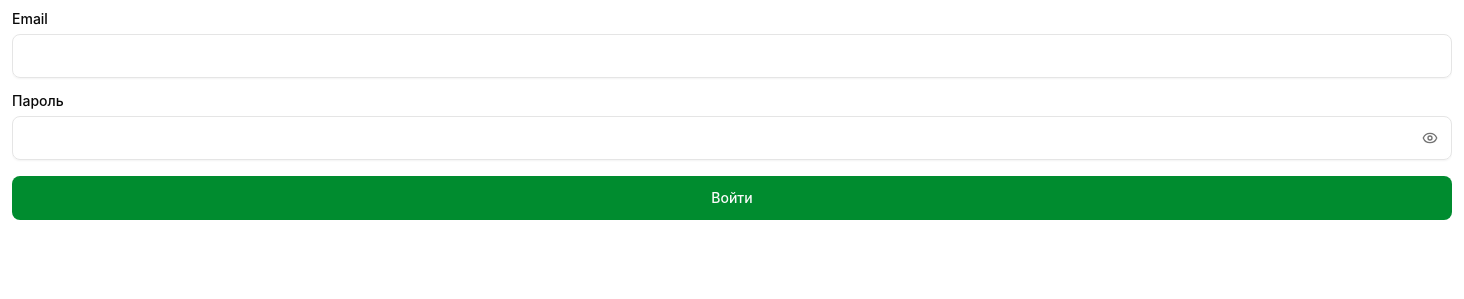
Test: LoginForm › реджект ApiRequestError(401) показывает общий алерт
Type "user@example.com" into the field labelled "Email".
click(732, 56); type("user@example.com")  # box [12,34,1452,78]
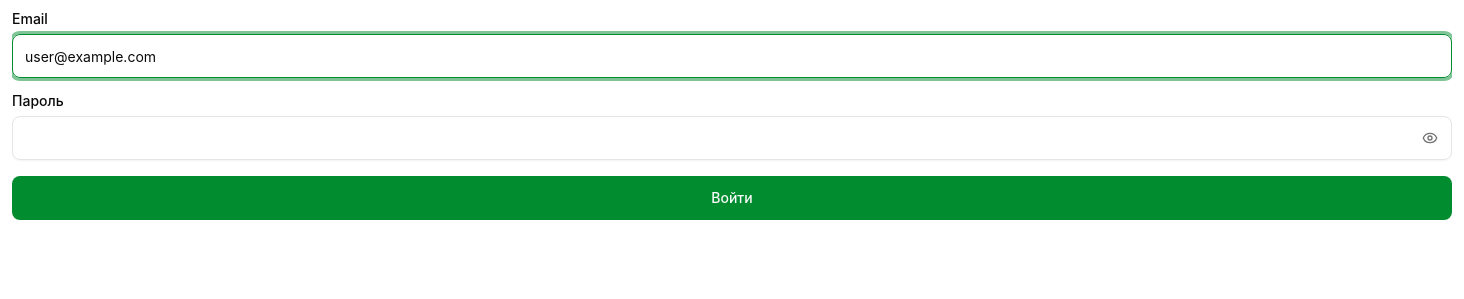
Type "wrong-pass" into the password field labelled "Пароль".
click(732, 138); type("wrong-pass")  # box [12,116,1452,160]
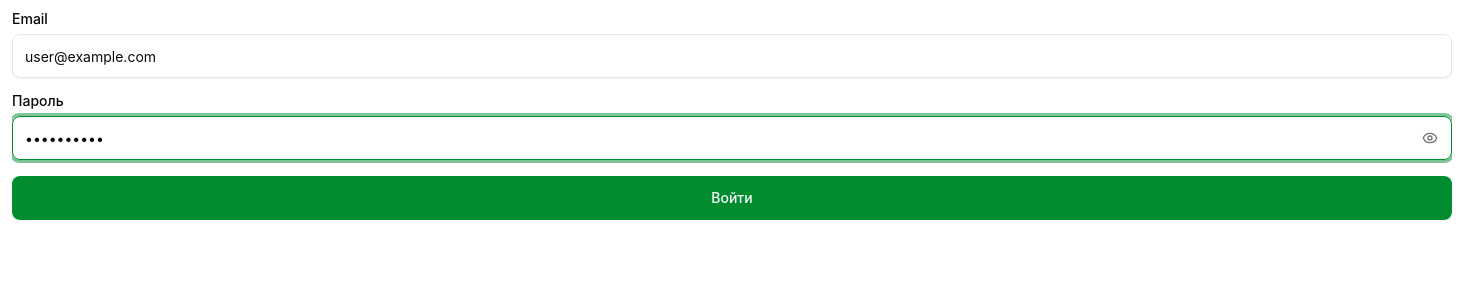
Click the button "Войти".
click(732, 198)  # box [12,176,1452,220]
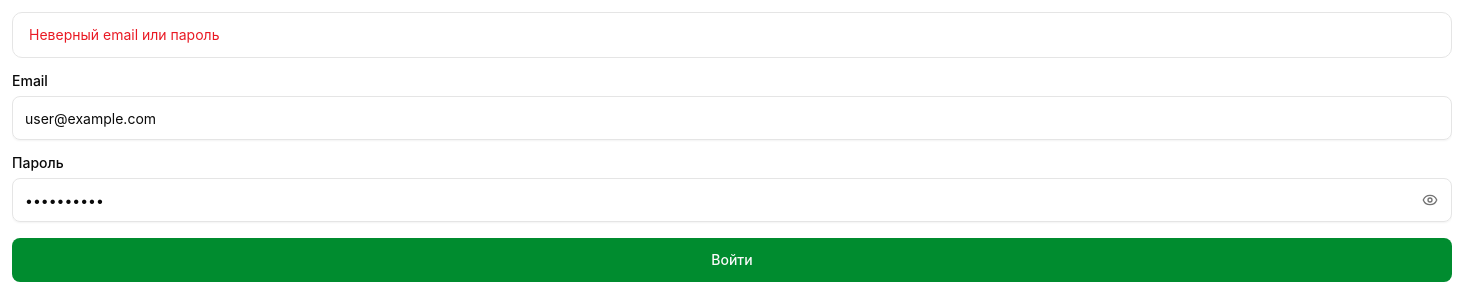
Result: the message reads "Неверный email или пароль" at [29,26,220,43]
